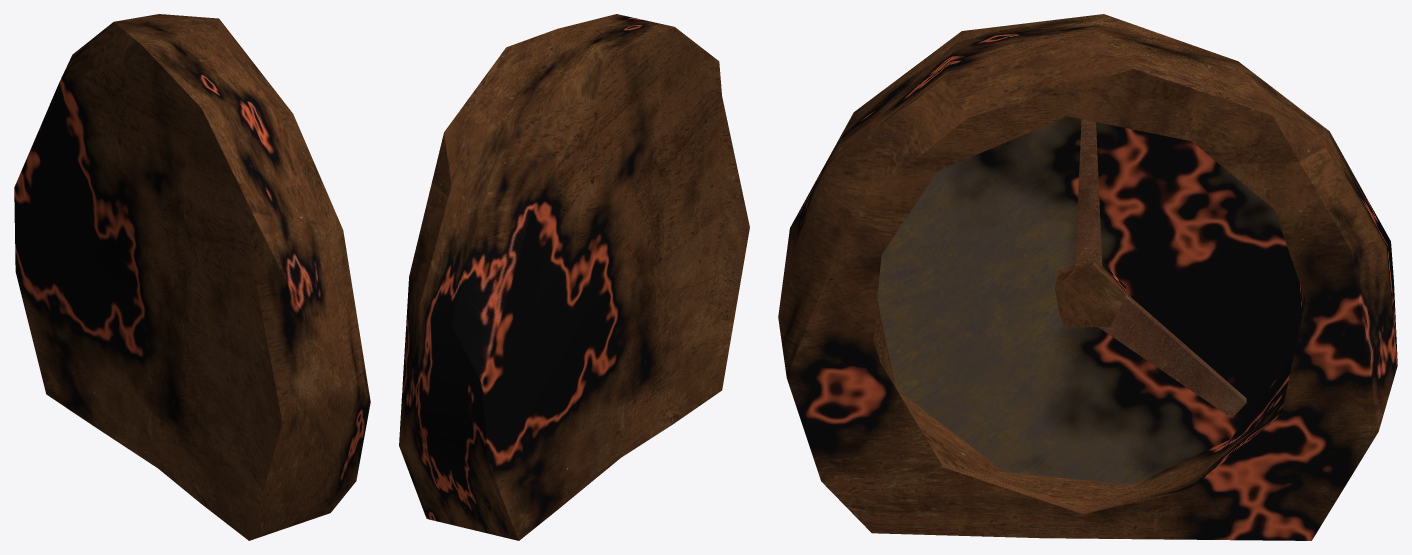
The model's file is clock.fbx.
3 views of the same model, side by side, from view 1: azimuth 30°, elevation 25°; view 2: azimuth 150°, elevation 25°; view 3: azimuth 270°, elevation 25° (orthographic). The views are drawn at different scales.
Parts seen in each view (by area): view 1: Clock_Baked; view 2: Clock_Baked; view 3: Clock_Baked.
Boxes of the visible parts, box(x1,y1,x2,y2) form: Clock_Baked: box(14, 14, 370, 540); Clock_Baked: box(399, 14, 749, 540); Clock_Baked: box(778, 14, 1397, 540).
Size of the model in its own units: 40.08 by 171 by 200.
